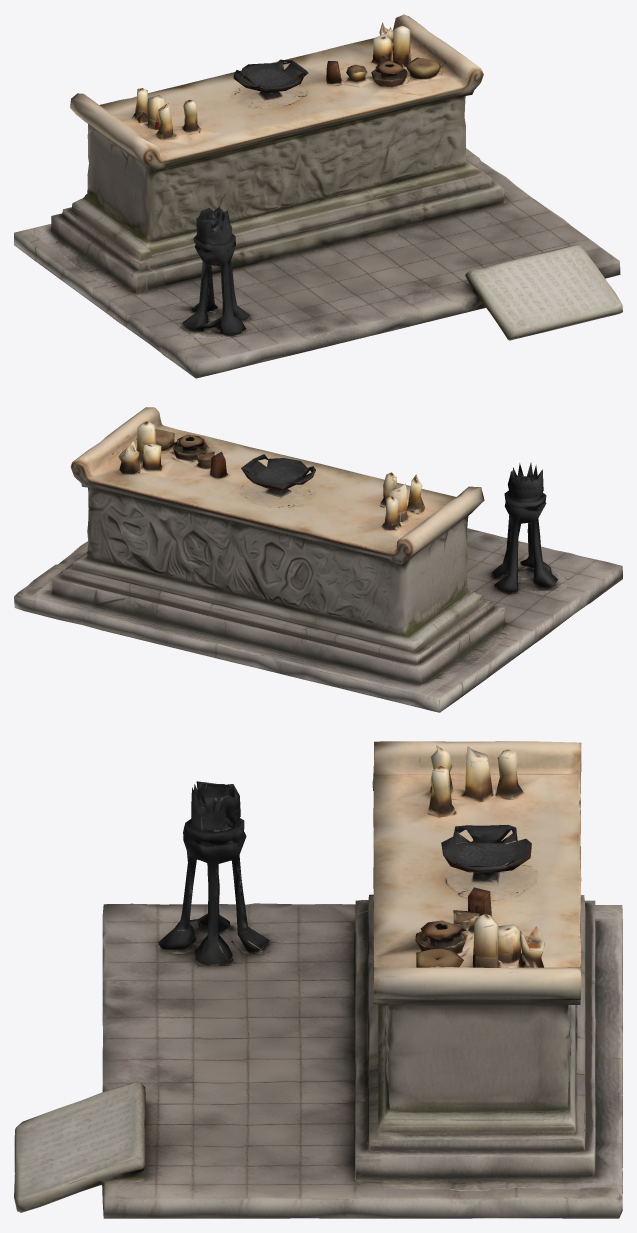
Rendered from Altar Tower.fbx.
3 views of the same model, one above another, from view 1: azimuth 30°, elevation 25°; view 2: azimuth 150°, elevation 25°; view 3: azimuth 270°, elevation 25° (orthographic). The views are drawn at different scales.
Parts seen in each view (by area): view 1: Mesh1.0; view 2: Mesh1.0; view 3: Mesh1.0.
Part boxes in pixels (box(x1,y1,x2,y2)): Mesh1.0: box(14, 14, 622, 378); Mesh1.0: box(14, 407, 622, 712); Mesh1.0: box(14, 741, 622, 1218).
Size of the model in its own units: 191 by 78.55 by 166.
1 material, 1 textured.
